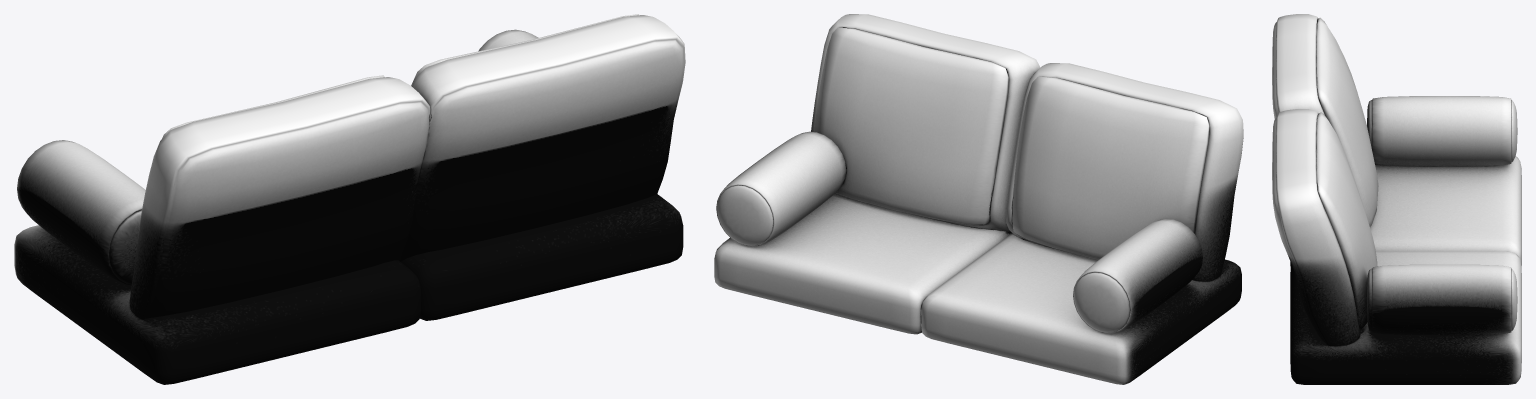
File: cushion2.glb
The picture shows the model from 3 angles, left to right: view 1: azimuth 30°, elevation 25°; view 2: azimuth 150°, elevation 25°; view 3: azimuth 270°, elevation 25°; orthographic projection. The views are drawn at different scales.
Visible parts, largest first — view 1: cushion2; view 2: cushion2; view 3: cushion2.
Boxes of the visible parts, left/top/right/bottom form: cushion2: left=14, top=14, right=685, bottom=384; cushion2: left=714, top=14, right=1243, bottom=384; cushion2: left=1272, top=14, right=1521, bottom=384.
Bounding box in the file's own units: 1.67 × 0.7441 × 0.8867.
Materials: 1 (1 with a texture image).
